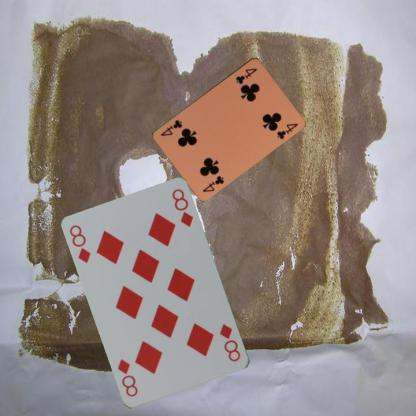4c: (233, 66, 259, 86), (200, 173, 225, 193)
8d: (217, 321, 242, 363), (67, 222, 92, 264)
